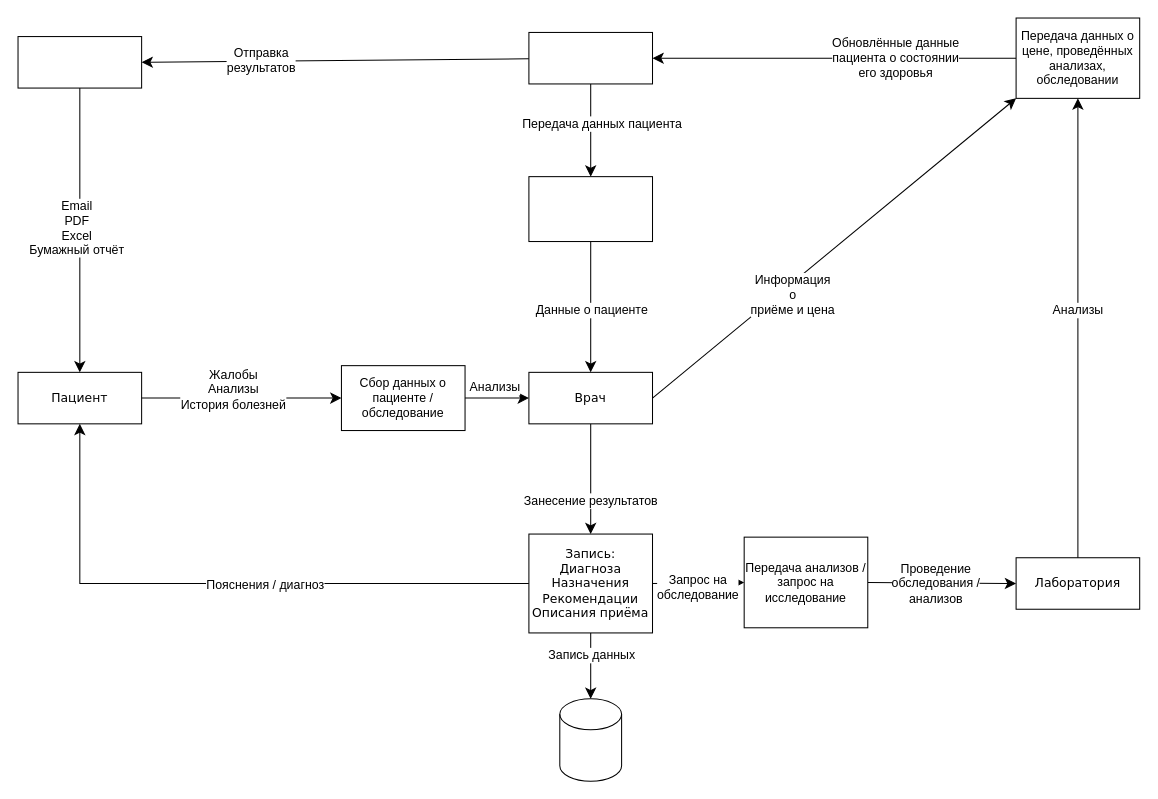
Image size: 1158x799. Some labels were removed from this diagram. Each missing label, with the centre of its shape:
"Excel" goes at point (590, 739).
"Оповещение с результатами лаборатории" goes at point (79, 62).
"Распечатка о пациенте Excel с данными пациентов" goes at point (590, 209).
"Ресепшн" goes at point (590, 57).
